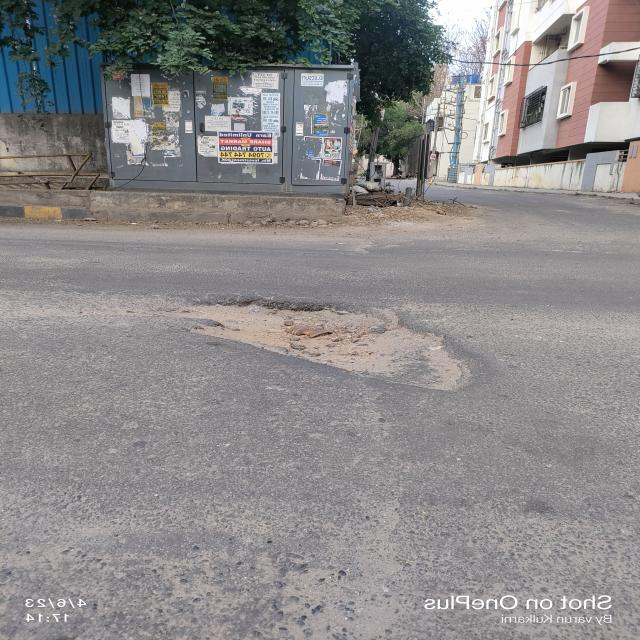potholes: (211, 298, 478, 391)
